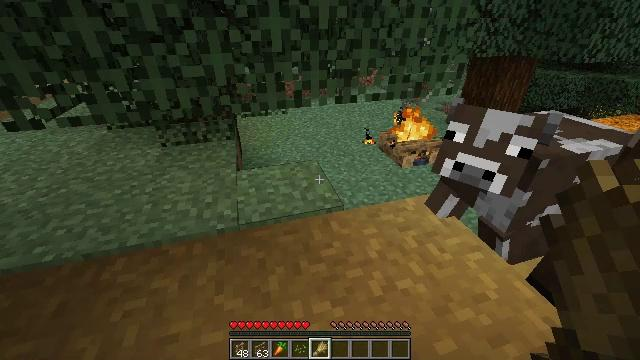cow: (434, 104, 639, 261)
